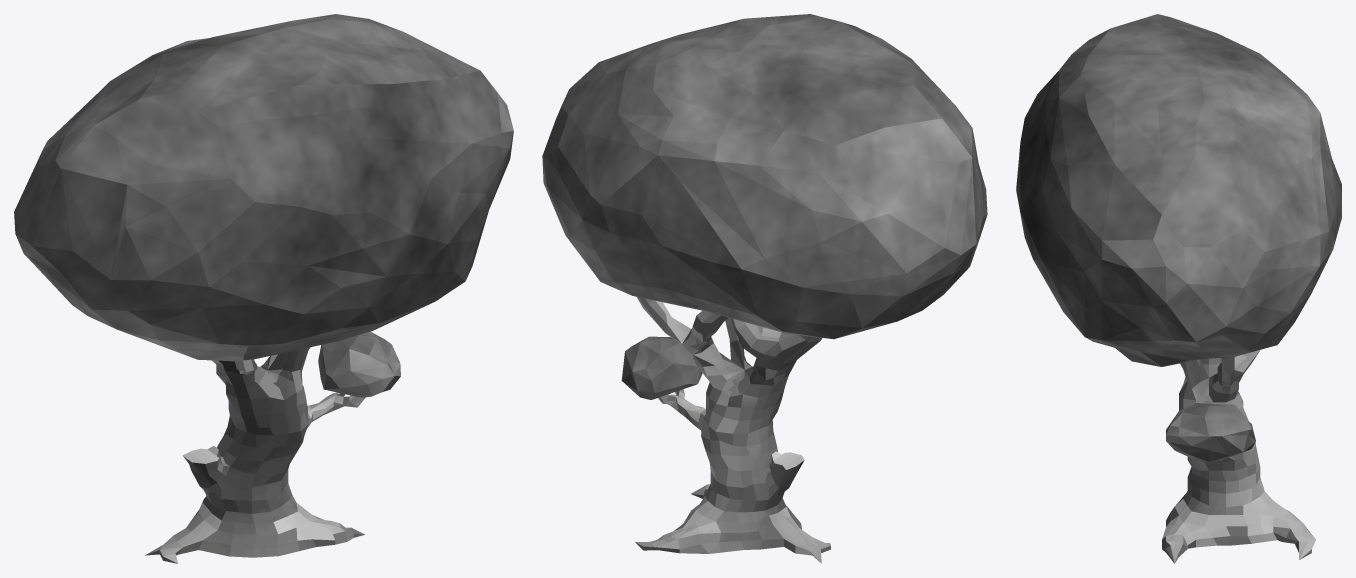
The model's file is Tree1.fbx.
3 renders of one model, left to right at view 1: azimuth 30°, elevation 25°; view 2: azimuth 150°, elevation 25°; view 3: azimuth 270°, elevation 25°, orthographic. The views are drawn at different scales.
Visible parts, largest first — view 1: Tree1; view 2: Tree1; view 3: Tree1.
Part boxes in pixels (x1=…): Tree1: x1=14, y1=14, x2=513, y2=563; Tree1: x1=542, y1=14, x2=987, y2=563; Tree1: x1=1016, y1=14, x2=1341, y2=563.
Bounding box in the file's own units: 11.2 × 11.9 × 7.6.
